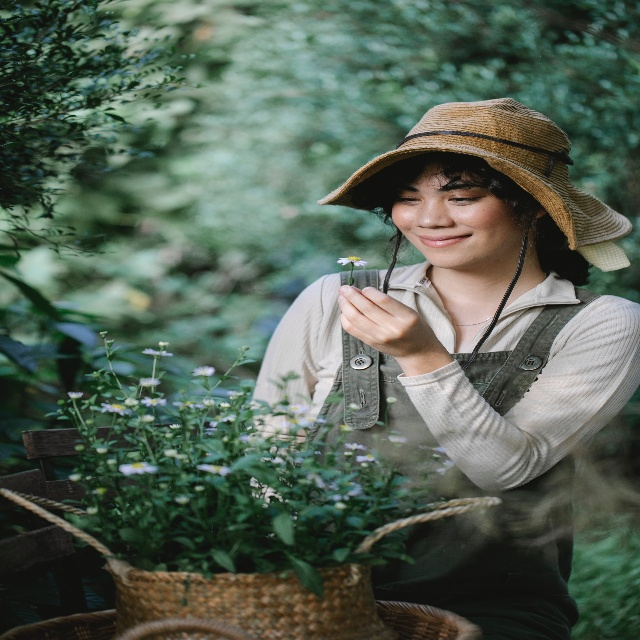Sin_guantes: (337, 284, 431, 360)
